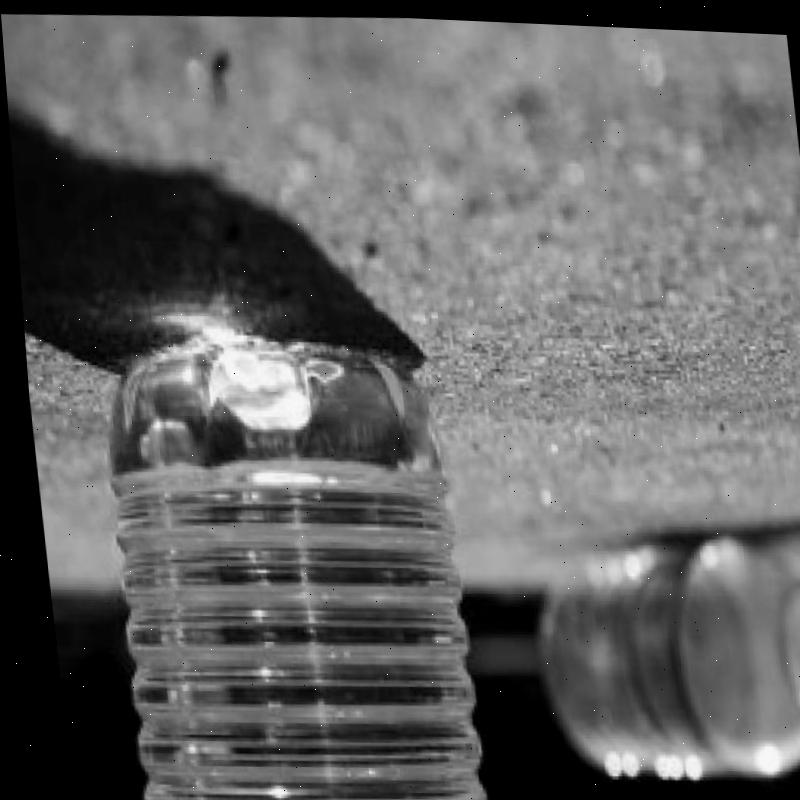botella: (84, 329, 478, 800), (522, 523, 800, 786)
